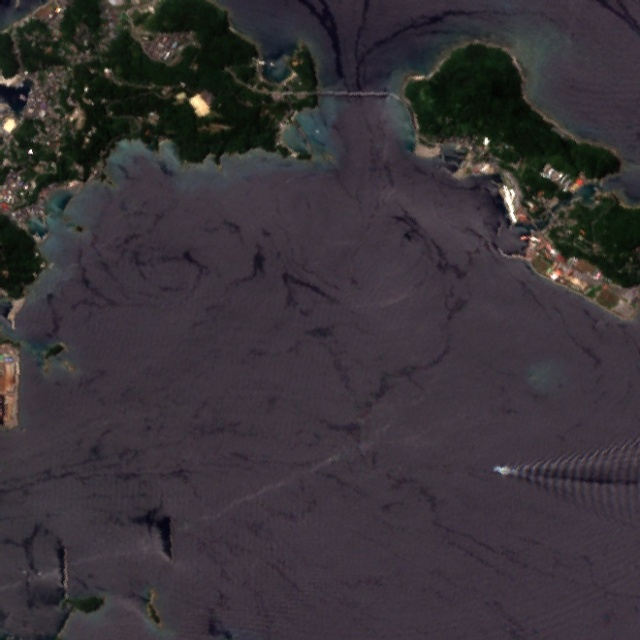wake: (484, 431, 638, 510)
